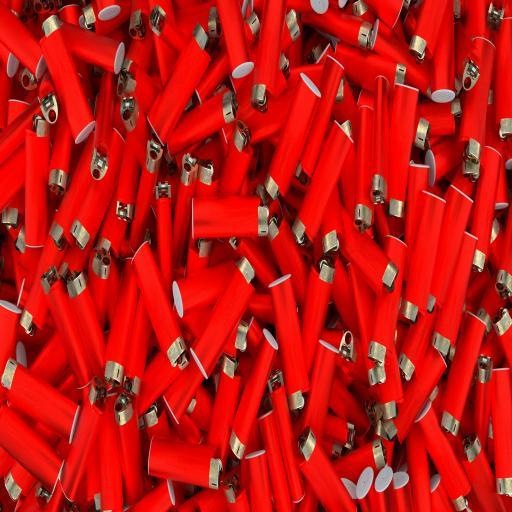lighter: (132, 246, 190, 402), (186, 264, 254, 390), (52, 120, 114, 258), (294, 116, 352, 250), (265, 70, 321, 202), (56, 378, 109, 512), (0, 401, 68, 501), (412, 396, 472, 508), (0, 360, 80, 443), (19, 222, 73, 338), (230, 330, 278, 460), (391, 336, 448, 443), (46, 278, 98, 395), (430, 188, 476, 316), (188, 186, 274, 254), (442, 306, 488, 430), (402, 192, 446, 320), (146, 32, 199, 135), (368, 246, 404, 396), (268, 274, 311, 396), (206, 354, 245, 482), (44, 18, 126, 78), (267, 378, 305, 506), (298, 336, 341, 449), (104, 258, 144, 379), (360, 16, 420, 96), (342, 218, 395, 308), (267, 213, 312, 312), (295, 424, 345, 512), (239, 80, 301, 150), (298, 258, 336, 372), (174, 85, 237, 153), (115, 81, 158, 180), (469, 147, 503, 270), (459, 33, 496, 146), (128, 139, 163, 256), (386, 81, 416, 217), (0, 90, 47, 176), (459, 431, 509, 511), (114, 392, 146, 512), (0, 0, 45, 82), (329, 437, 380, 509), (254, 0, 290, 100), (397, 294, 437, 382), (214, 0, 253, 90), (334, 38, 392, 98), (336, 308, 378, 390), (24, 122, 51, 248), (172, 148, 200, 266), (155, 438, 214, 492), (229, 234, 278, 292), (0, 135, 31, 225), (407, 0, 450, 63), (431, 3, 457, 106), (46, 106, 74, 201), (218, 125, 254, 197), (371, 72, 389, 214), (492, 11, 512, 136), (405, 424, 433, 512), (153, 183, 173, 306), (2, 214, 31, 298), (194, 46, 232, 106), (88, 243, 113, 331), (140, 402, 170, 475), (277, 60, 333, 99), (425, 132, 465, 184), (124, 472, 176, 512), (92, 67, 114, 160), (0, 304, 22, 396), (316, 326, 352, 382), (171, 2, 216, 46), (332, 62, 360, 132), (414, 96, 456, 142), (303, 4, 349, 46), (332, 10, 374, 52), (84, 1, 132, 36), (454, 17, 478, 87), (154, 3, 186, 54), (337, 393, 371, 439), (357, 0, 403, 32), (493, 306, 512, 375), (492, 137, 509, 214), (0, 56, 14, 130), (18, 0, 42, 39), (195, 160, 219, 198), (303, 28, 326, 65), (36, 0, 61, 32), (59, 2, 85, 28), (7, 98, 30, 126)
